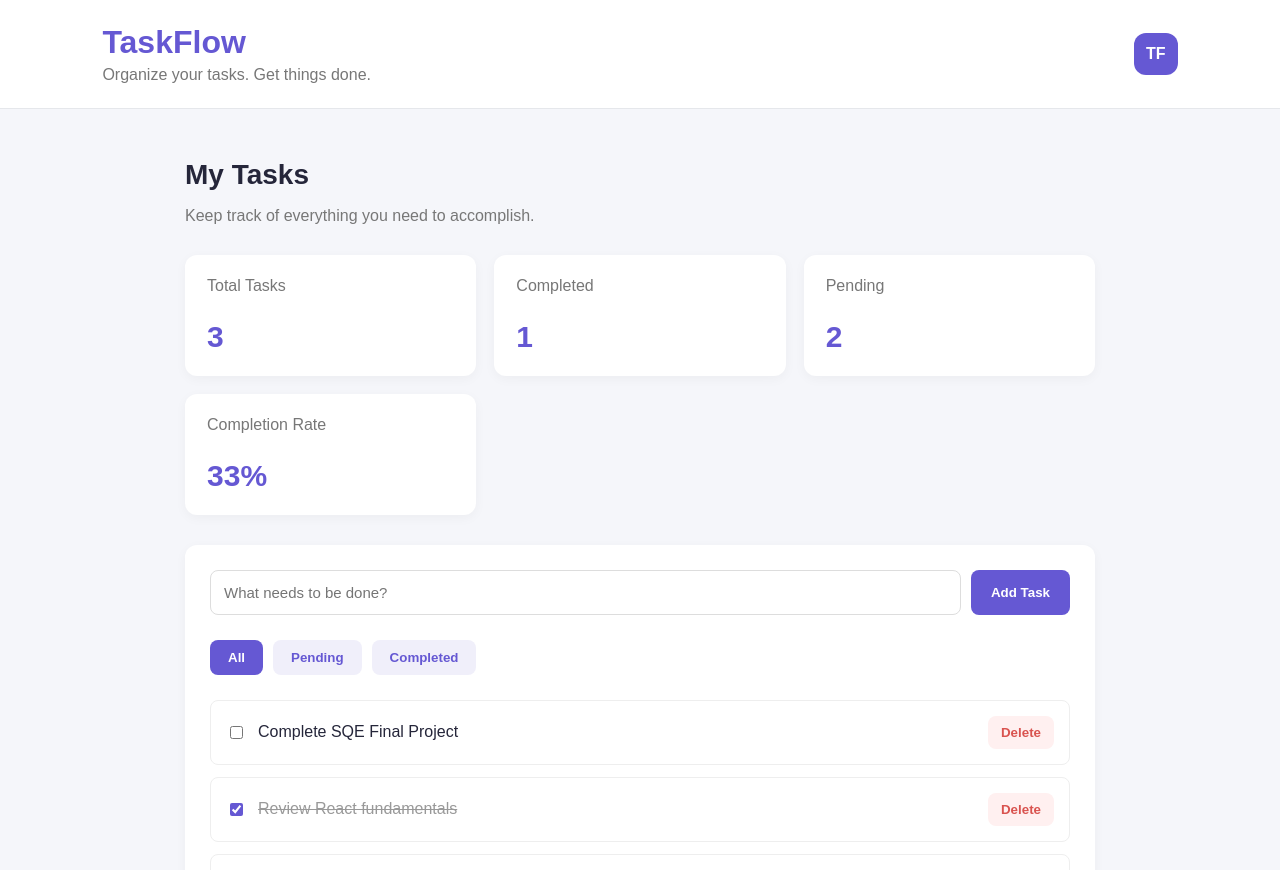
Test: TaskFlow Application › filtering tasks › shows only completed tasks with the Completed filter
Click the button "Completed" at [424, 657], box [372, 640, 476, 675]
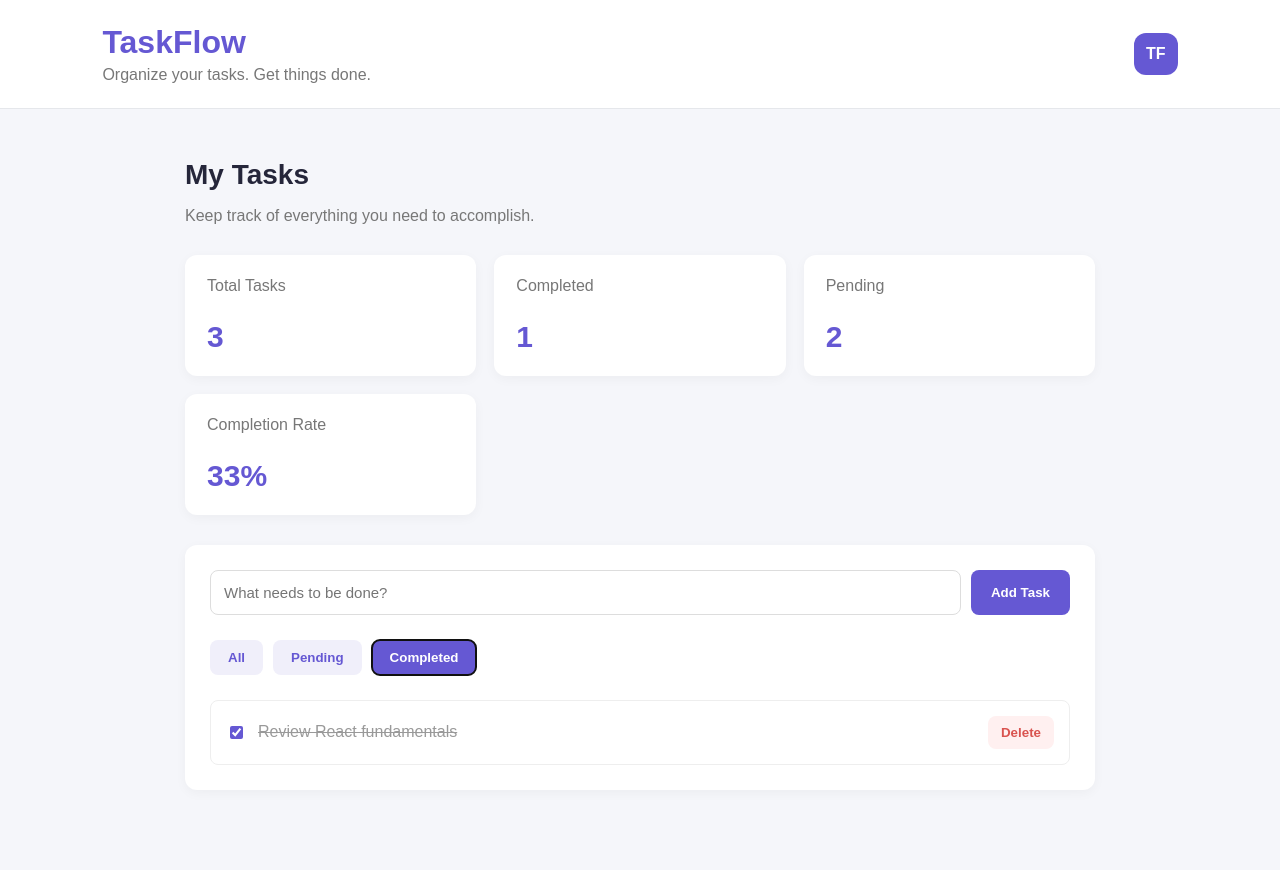
Expected: the text "Review React fundamentals" is shown, [258, 723, 457, 741]
Result: the text "Complete SQE Final Project" is gone
